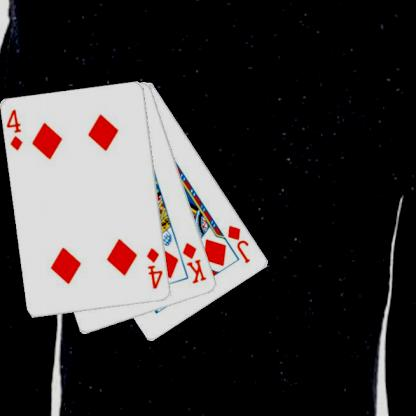4D: (5, 107, 24, 153), (145, 246, 164, 290)
JD: (224, 222, 252, 265)
KD: (179, 239, 208, 285)
